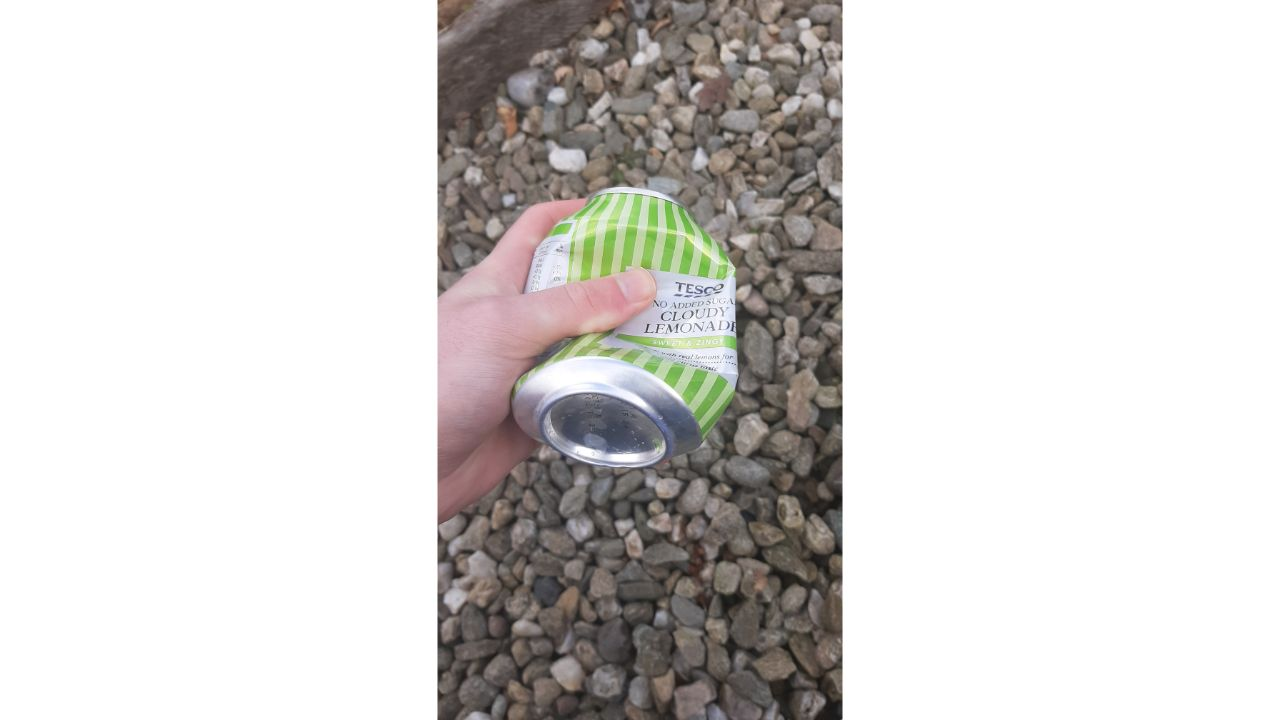Can: (497, 171, 757, 479)
